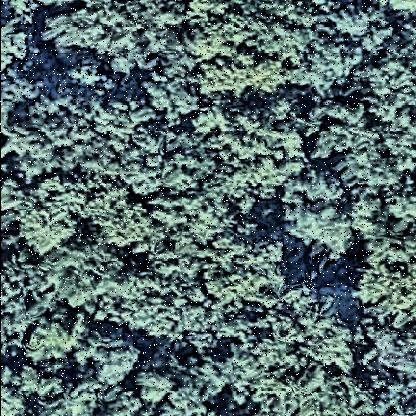tree-top: (19, 176, 159, 256), (13, 93, 102, 171), (202, 236, 290, 310), (40, 239, 126, 307), (282, 171, 355, 250), (193, 58, 290, 104), (69, 330, 143, 390), (172, 358, 236, 416), (352, 258, 416, 311), (144, 73, 202, 121), (134, 359, 180, 410), (87, 383, 145, 416), (1, 23, 35, 74), (23, 367, 69, 400)
